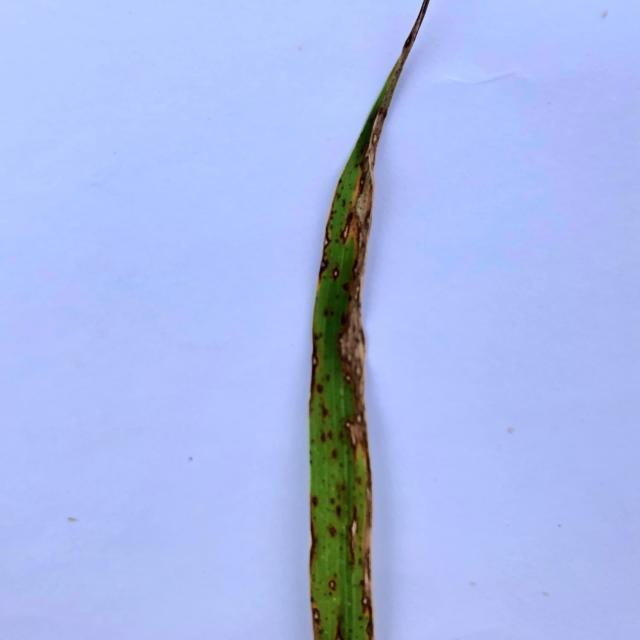Leaf_Blast: (338, 306, 365, 377), (356, 169, 372, 244), (345, 411, 372, 447)
